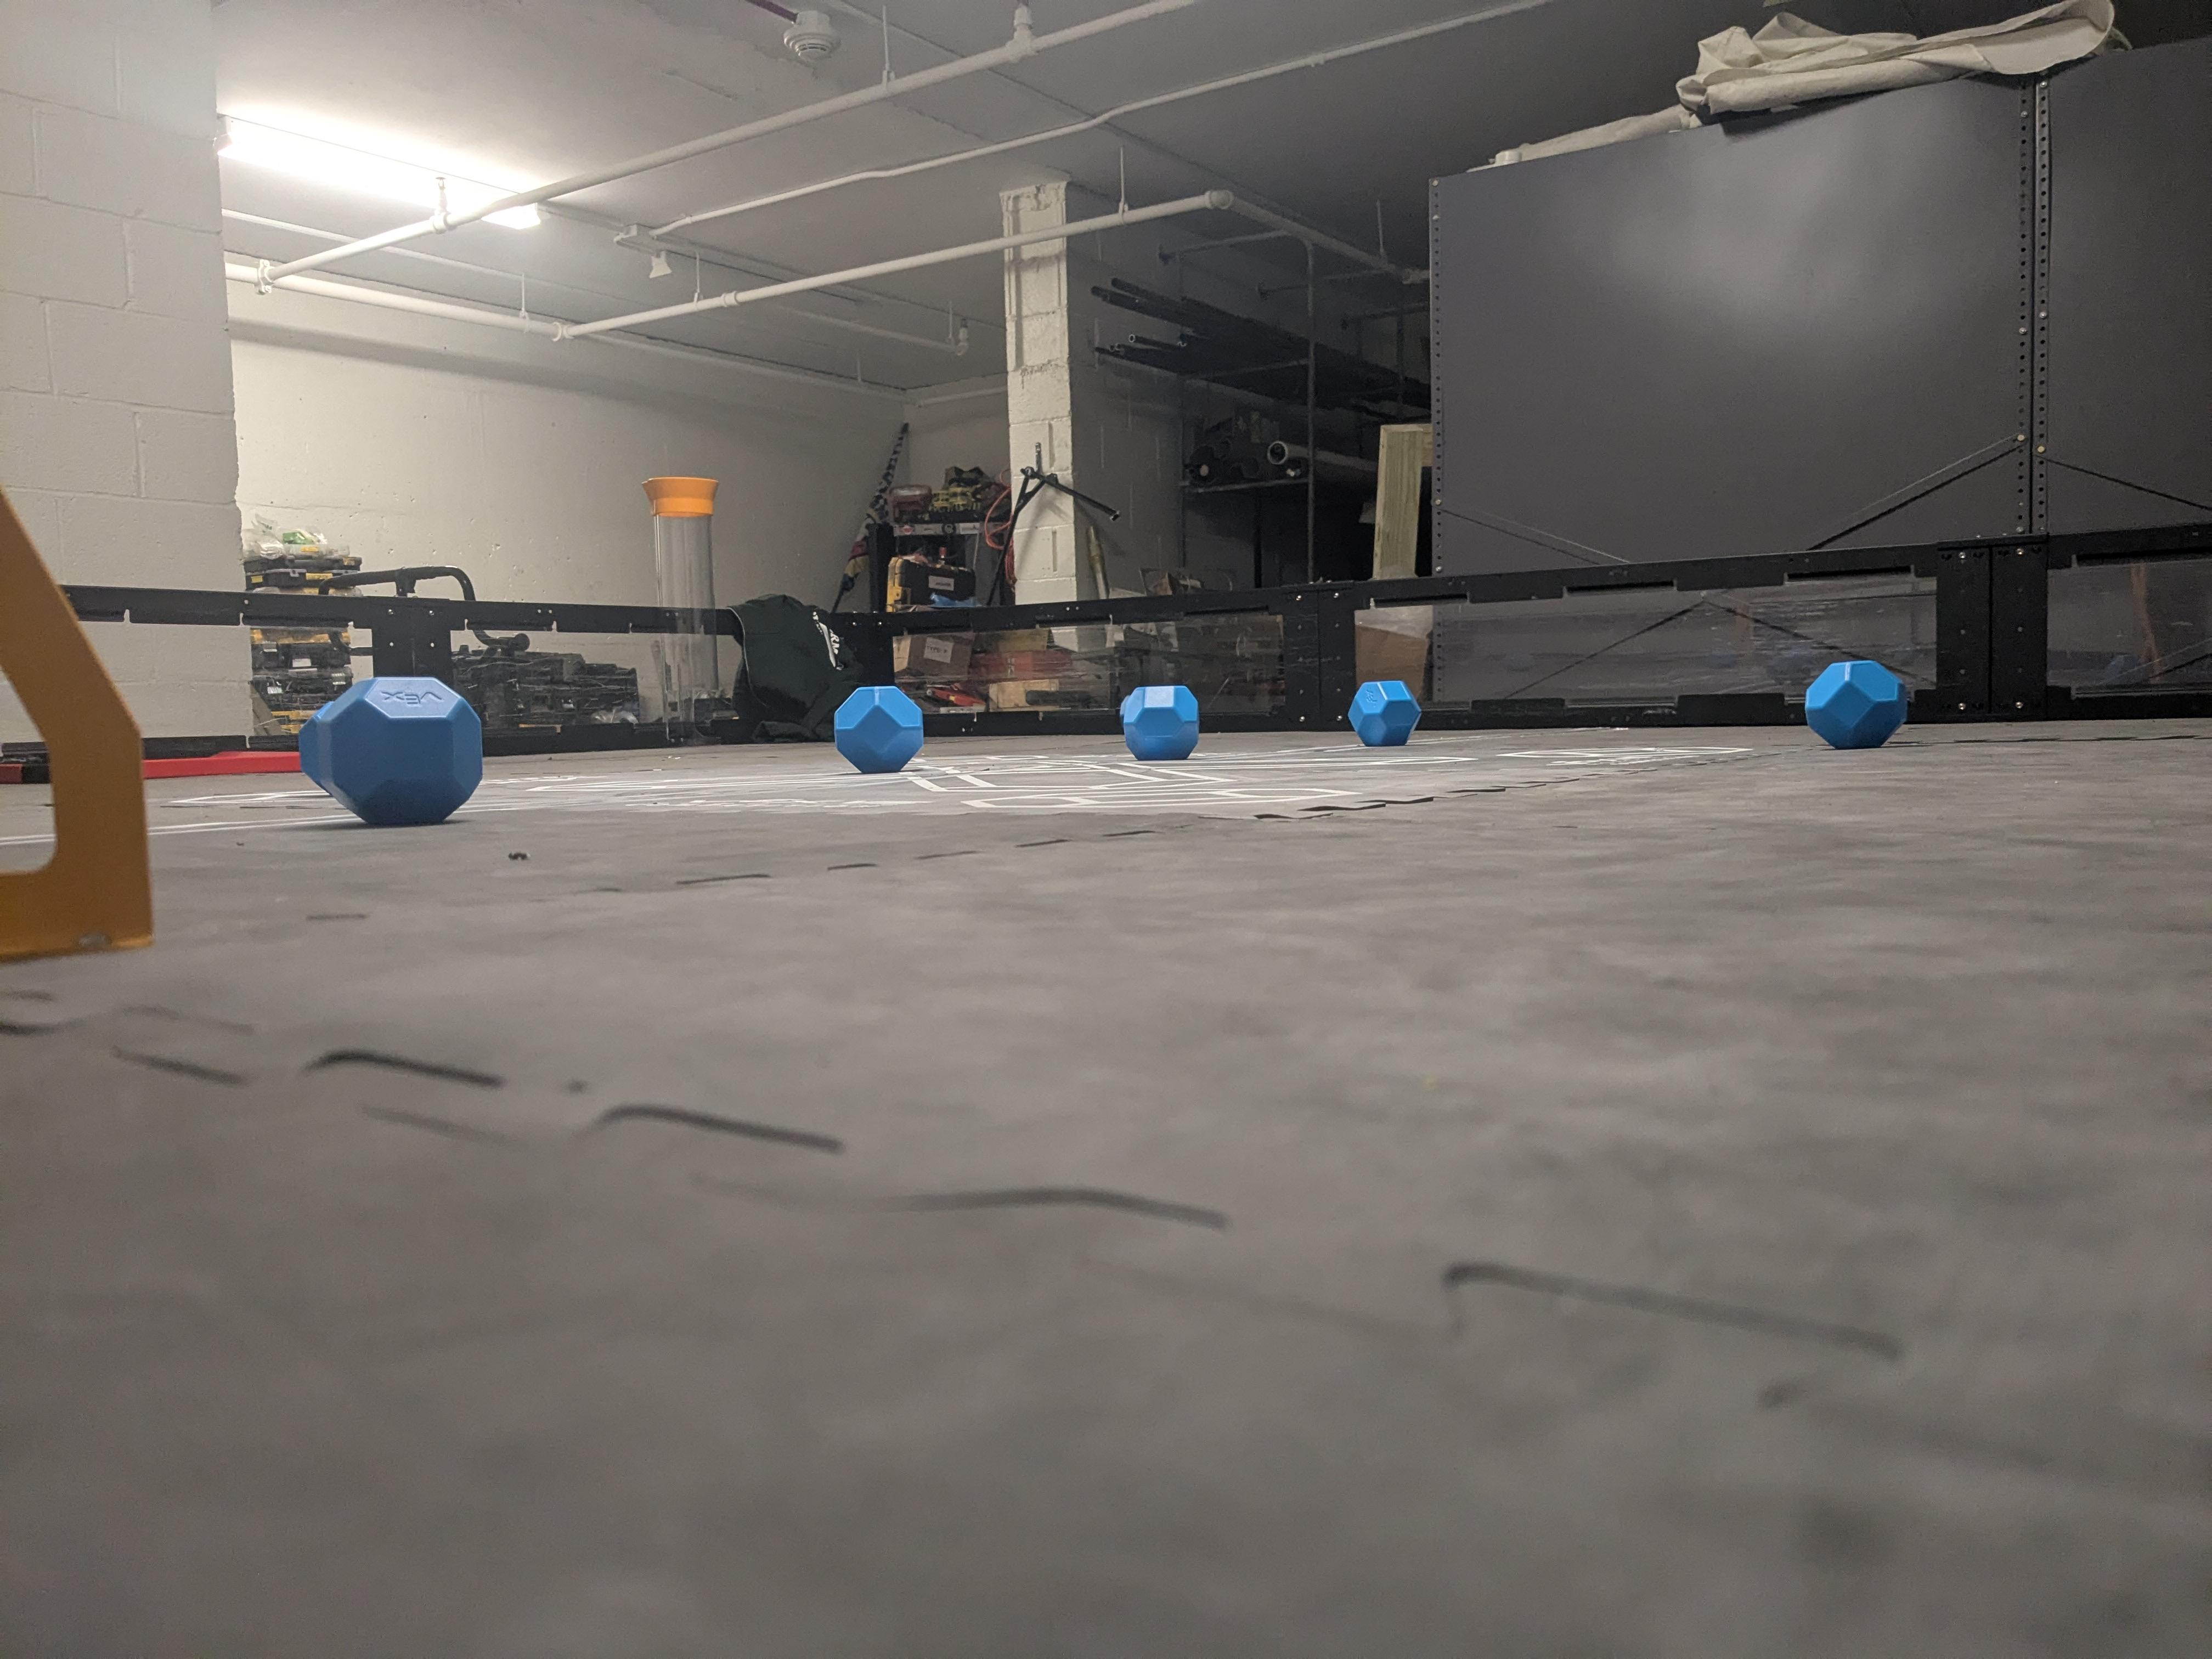Vex-Pieces-BLUE: (303, 676, 484, 824), (1804, 662, 1907, 744), (833, 687, 921, 770), (1115, 688, 1198, 756), (1348, 681, 1420, 744)
